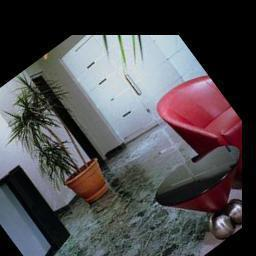Matera: (3, 76, 127, 213)
